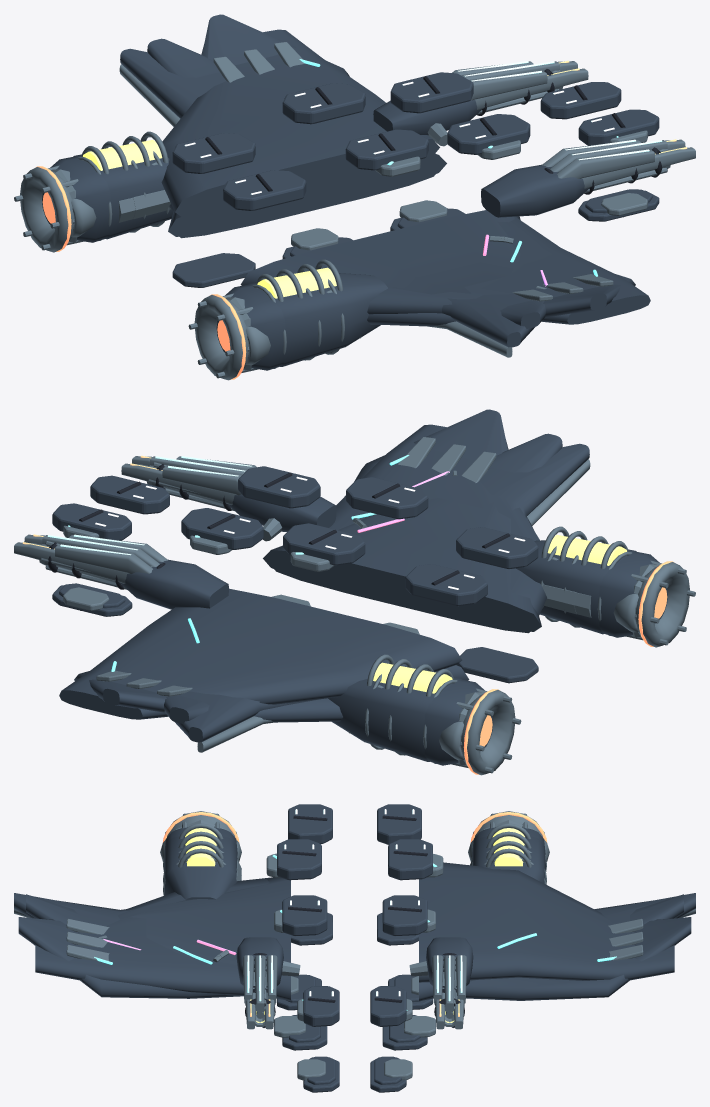
The model's file is glacier.glb.
3 views of the same model, one above another, from view 1: azimuth 30°, elevation 25°; view 2: azimuth 150°, elevation 25°; view 3: azimuth 270°, elevation 25° (orthographic). The views are drawn at different scales.
Parts seen in each view (by area): view 1: w_vane Fitting gunmetal, p_heavy Fitting gunmetal, w_razor Fitting gunmetal, w_prism Fitting gunmetal, e_twin Fitting gunmetal, e_nova Brushed fitting edges, w_phantom Fitting gunmetal, m_heavy Fitting gunmetal, m_array Brushed fitting edges, e_nova Fitting gunmetal, p_light Brushed fitting edges, m_siege Brushed fitting edges (+11 smaller); view 2: w_vane Fitting gunmetal, p_heavy Fitting gunmetal, w_razor Fitting gunmetal, e_twin Fitting gunmetal, w_prism Fitting gunmetal, w_phantom Fitting gunmetal, e_nova Brushed fitting edges, m_heavy Fitting gunmetal, m_array Brushed fitting edges, e_nova Fitting gunmetal, m_siege Brushed fitting edges, e_fusion Brushed fitting edges (+11 smaller); view 3: w_vane Fitting gunmetal, p_heavy Fitting gunmetal, w_razor Fitting gunmetal, w_prism Fitting gunmetal, e_twin Fitting gunmetal, p_light Brushed fitting edges, m_array Brushed fitting edges, e_fusion Brushed fitting edges, w_vane Brushed fitting edges, m_heavy Fitting gunmetal, w_phantom Fitting gunmetal, p_aegis Fitting gunmetal (+9 smaller).
Part boxes in pixels (<box>): w_vane Fitting gunmetal: <box>161,29,650,324</box>; p_heavy Fitting gunmetal: <box>172,72,659,287</box>; w_razor Fitting gunmetal: <box>147,38,545,328</box>; w_prism Fitting gunmetal: <box>169,14,635,326</box>; e_twin Fitting gunmetal: <box>73,154,387,366</box>; e_nova Brushed fitting edges: <box>14,165,257,380</box>; w_phantom Fitting gunmetal: <box>120,48,534,347</box>; m_heavy Fitting gunmetal: <box>373,100,589,217</box>; m_array Brushed fitting edges: <box>452,61,667,178</box>; e_nova Fitting gunmetal: <box>42,157,285,370</box>; p_light Brushed fitting edges: <box>291,130,647,250</box>; m_siege Brushed fitting edges: <box>474,61,695,188</box>; w_vane Fitting gunmetal: <box>59,424,546,719</box>; p_heavy Fitting gunmetal: <box>52,466,538,683</box>; w_razor Fitting gunmetal: <box>164,433,562,723</box>; e_twin Fitting gunmetal: <box>328,540,636,761</box>; w_prism Fitting gunmetal: <box>74,409,533,722</box>; w_phantom Fitting gunmetal: <box>175,443,589,742</box>; e_nova Brushed fitting edges: <box>452,560,695,775</box>; m_heavy Fitting gunmetal: <box>120,494,336,609</box>; m_array Brushed fitting edges: <box>42,456,256,573</box>; e_nova Fitting gunmetal: <box>424,552,667,765</box>; m_siege Brushed fitting edges: <box>14,456,235,583</box>; e_fusion Brushed fitting edges: <box>348,526,658,765</box>; w_vane Fitting gunmetal: <box>35,862,674,997</box>; p_heavy Fitting gunmetal: <box>277,804,432,1092</box>; w_razor Fitting gunmetal: <box>26,877,683,1001</box>; w_prism Fitting gunmetal: <box>18,917,691,1000</box>; e_twin Fitting gunmetal: <box>164,836,545,899</box>; p_light Brushed fitting edges: <box>266,853,443,1080</box>; m_array Brushed fitting edges: <box>242,955,467,1012</box>; e_fusion Brushed fitting edges: <box>175,820,534,867</box>; w_vane Brushed fitting edges: <box>66,918,643,960</box>; m_heavy Fitting gunmetal: <box>236,937,473,985</box>; w_phantom Fitting gunmetal: <box>14,893,695,1000</box>; p_aegis Fitting gunmetal: <box>286,974,420,1084</box>.
Bounding box in the file's own units: 44.24 × 13.54 × 57.6.
